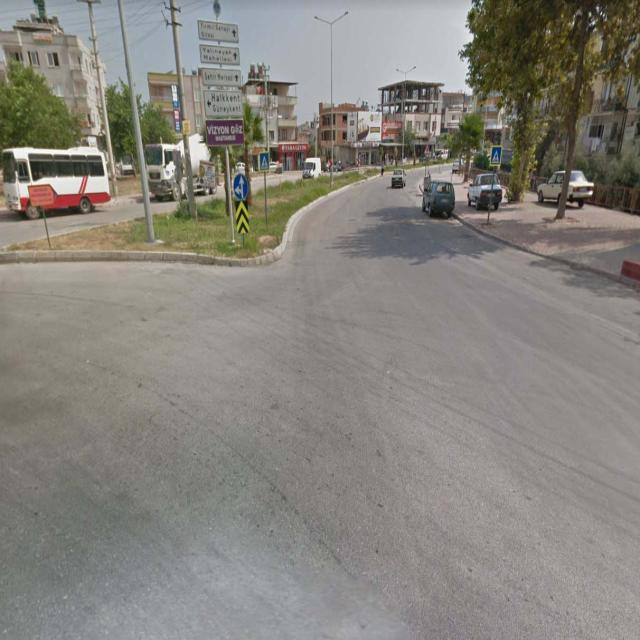ilerisol: (234, 173, 246, 202)
